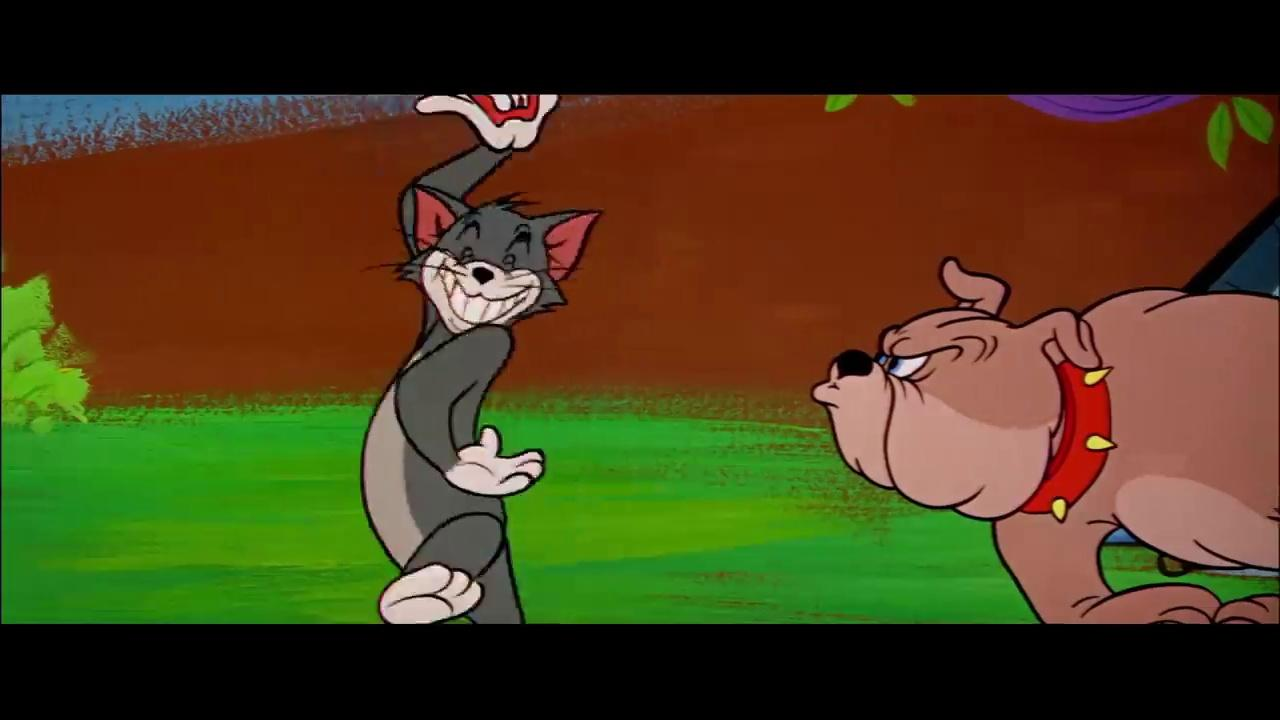Tom: (357, 92, 605, 626)
